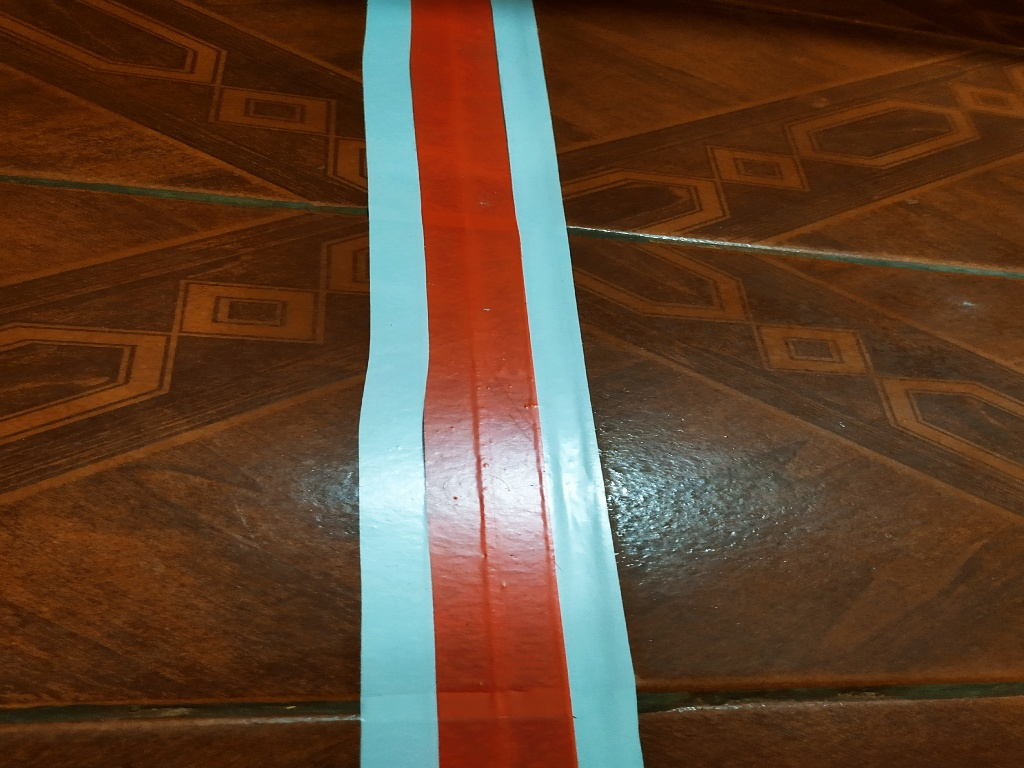reta: (344, 9, 652, 766)
